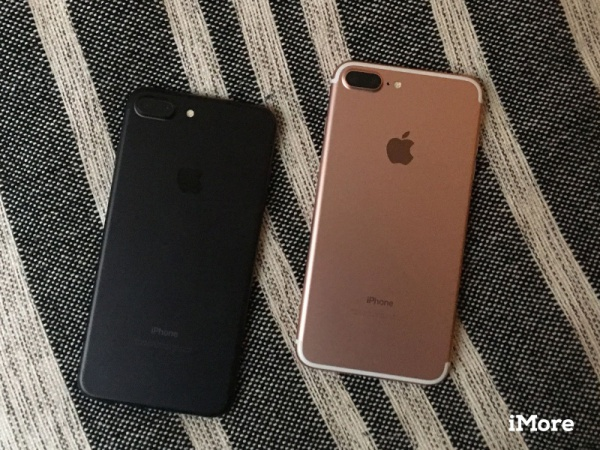apple: (365, 117, 425, 186), (172, 160, 223, 212)
